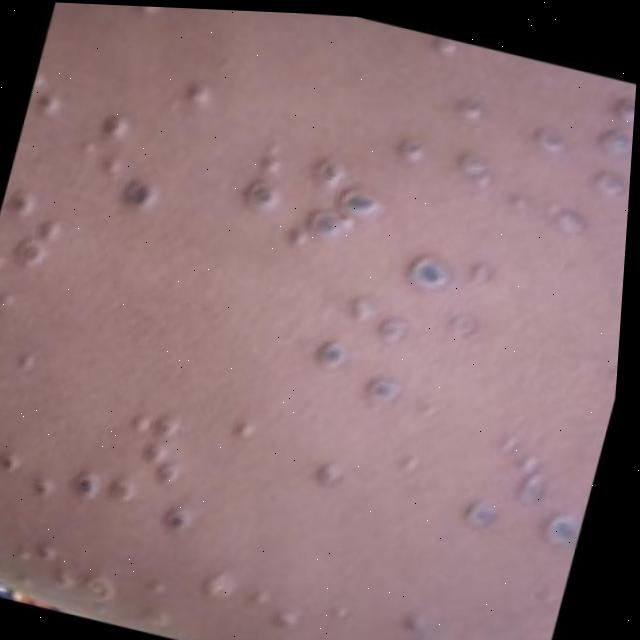Eczema: (0, 30, 593, 640)
